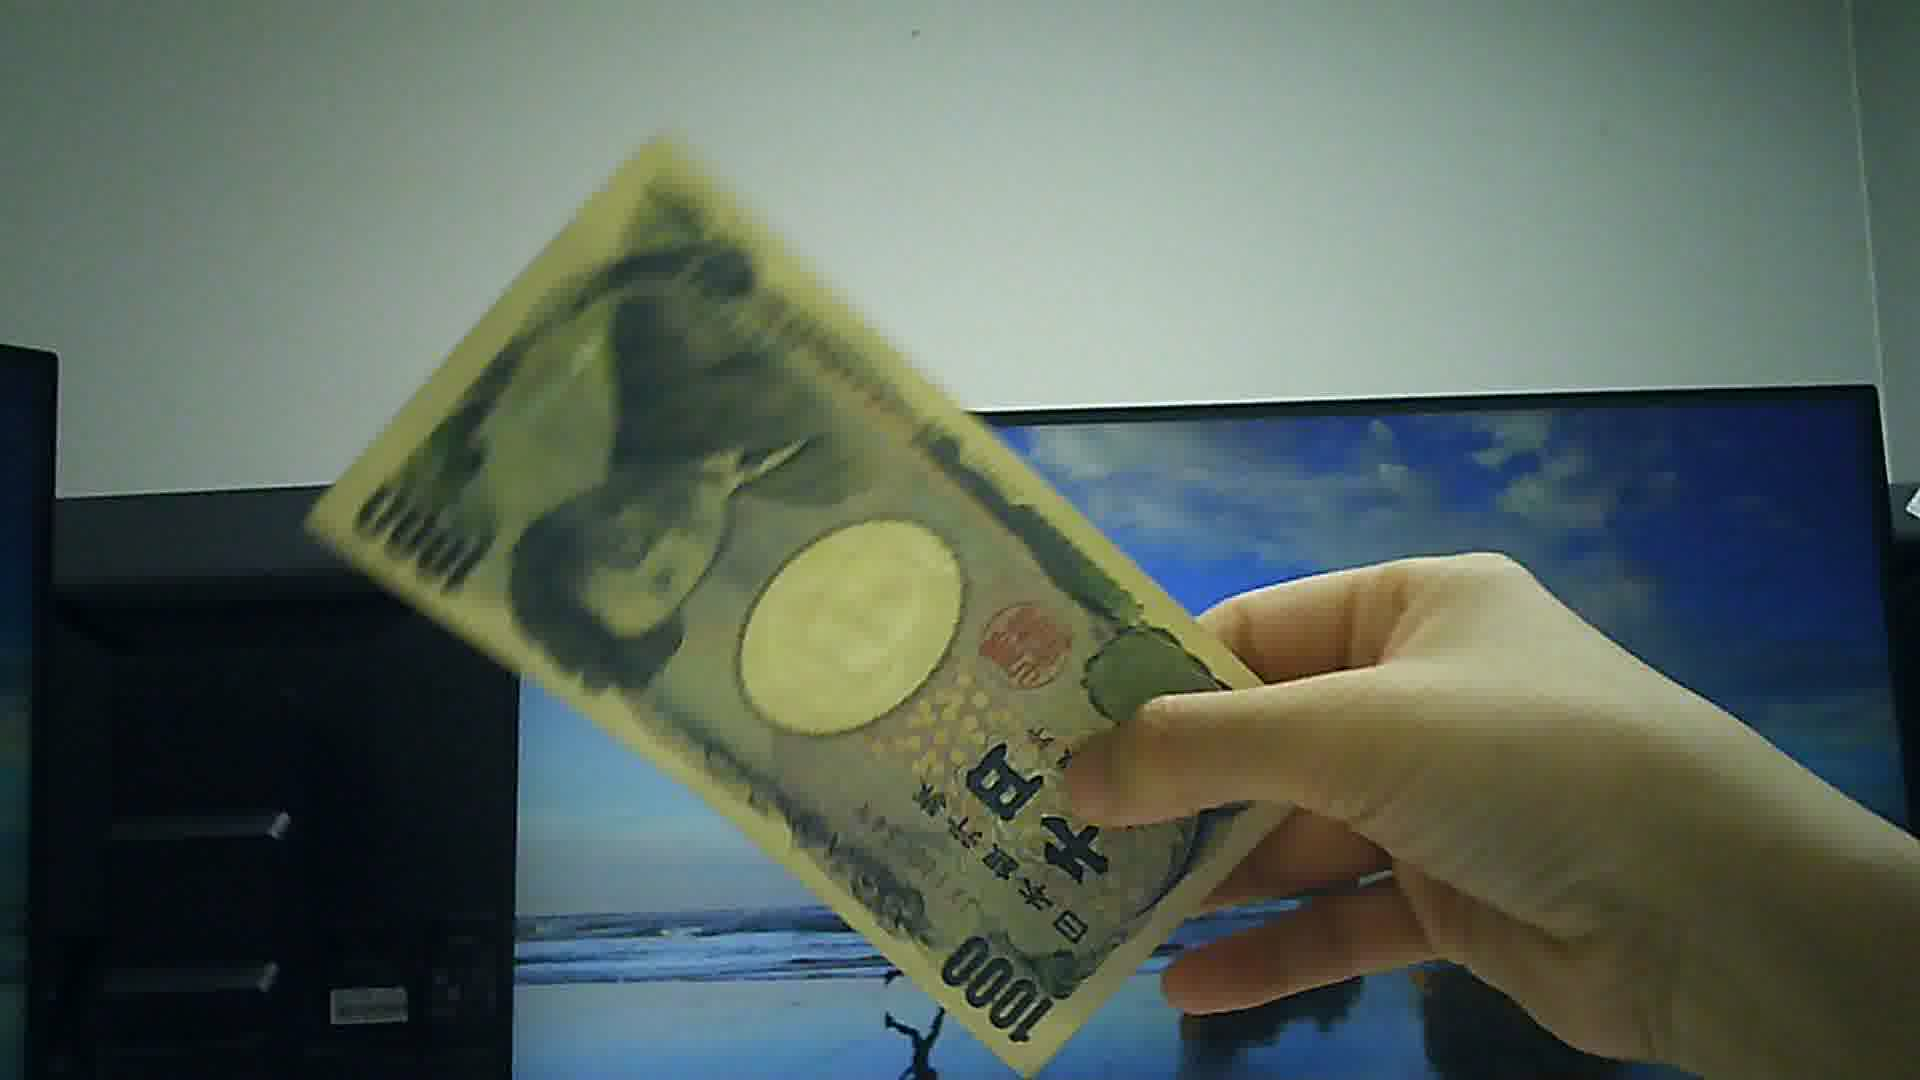1,000 Yen: (309, 132, 1305, 1079)
